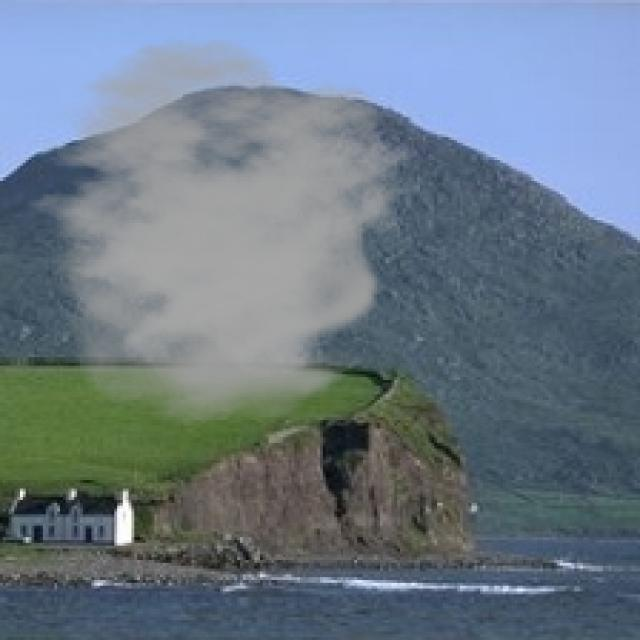smoke: (9, 37, 414, 426)
